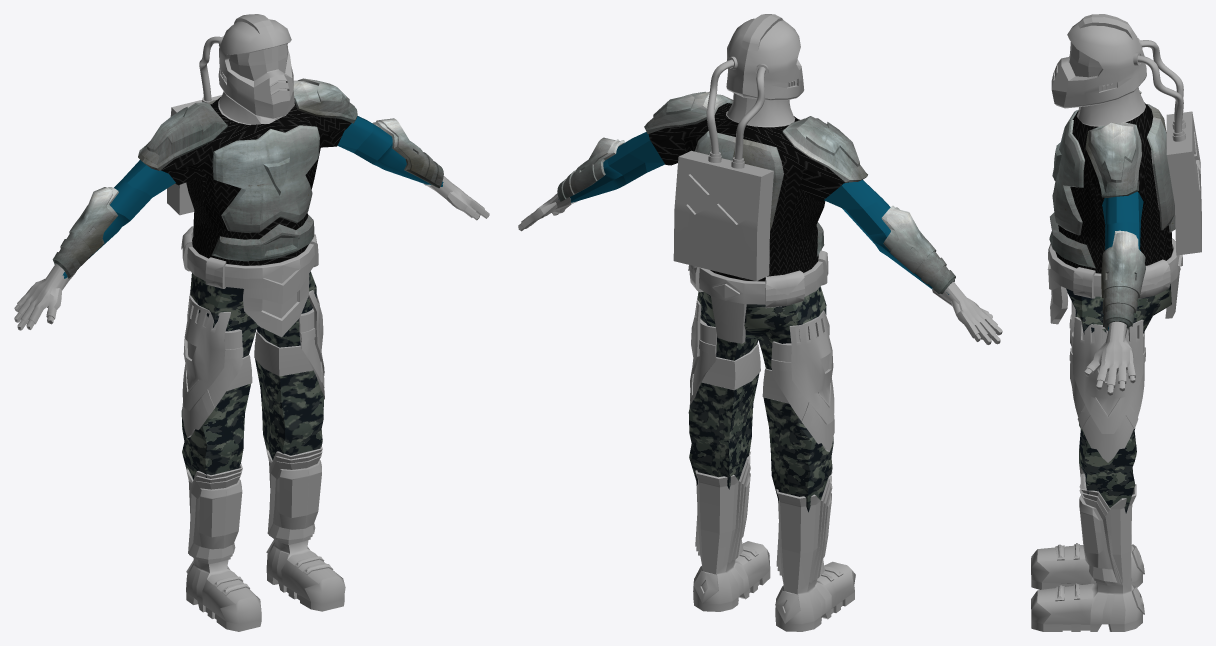
File: personajefbx.fbx
The picture shows the model from 3 angles, left to right: view 1: azimuth 30°, elevation 25°; view 2: azimuth 150°, elevation 25°; view 3: azimuth 270°, elevation 25°; orthographic projection.
Parts seen in each view (by area): view 1: pPipe4, CASCO:pCube4, soldado:soldado:extrudedSurface2; view 2: CASCO:pCube4, pPipe4, soldado:soldado:extrudedSurface2; view 3: pPipe4, CASCO:pCube4, soldado:soldado:extrudedSurface2.
Part boxes in pixels (x1,y1,x2,y2): pPipe4: (14, 78, 489, 337); CASCO:pCube4: (181, 271, 345, 631); soldado:soldado:extrudedSurface2: (167, 14, 294, 215); CASCO:pCube4: (688, 286, 855, 631); pPipe4: (518, 91, 1002, 344); soldado:soldado:extrudedSurface2: (673, 14, 804, 281); pPipe4: (1047, 87, 1182, 395); CASCO:pCube4: (1031, 284, 1171, 631); soldado:soldado:extrudedSurface2: (1051, 14, 1201, 255).
Bounding box in the file's own units: 8.33 × 9.76 × 2.58.
